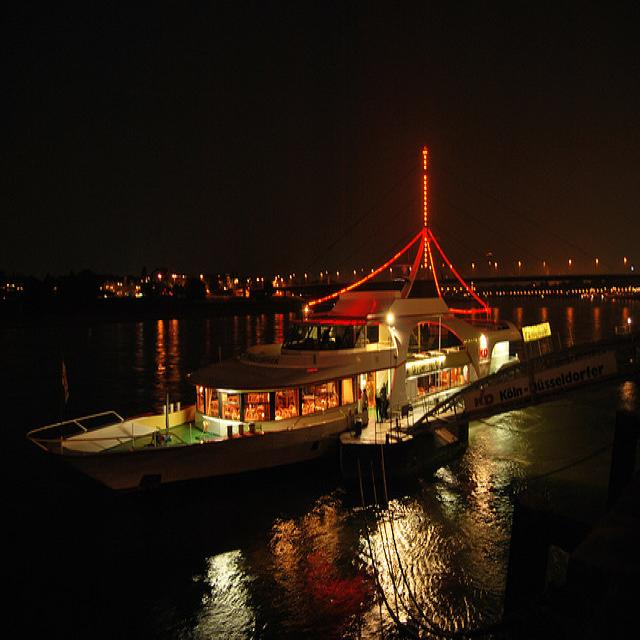Boat: (2, 237, 638, 538)
